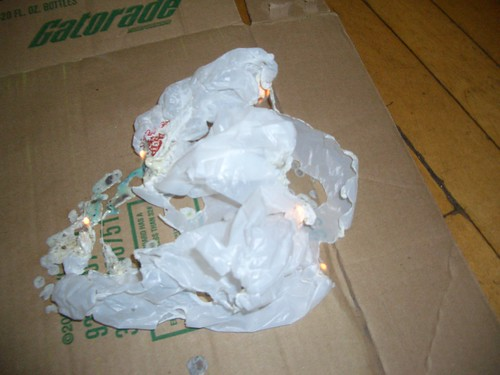kantong: (37, 44, 362, 333)
